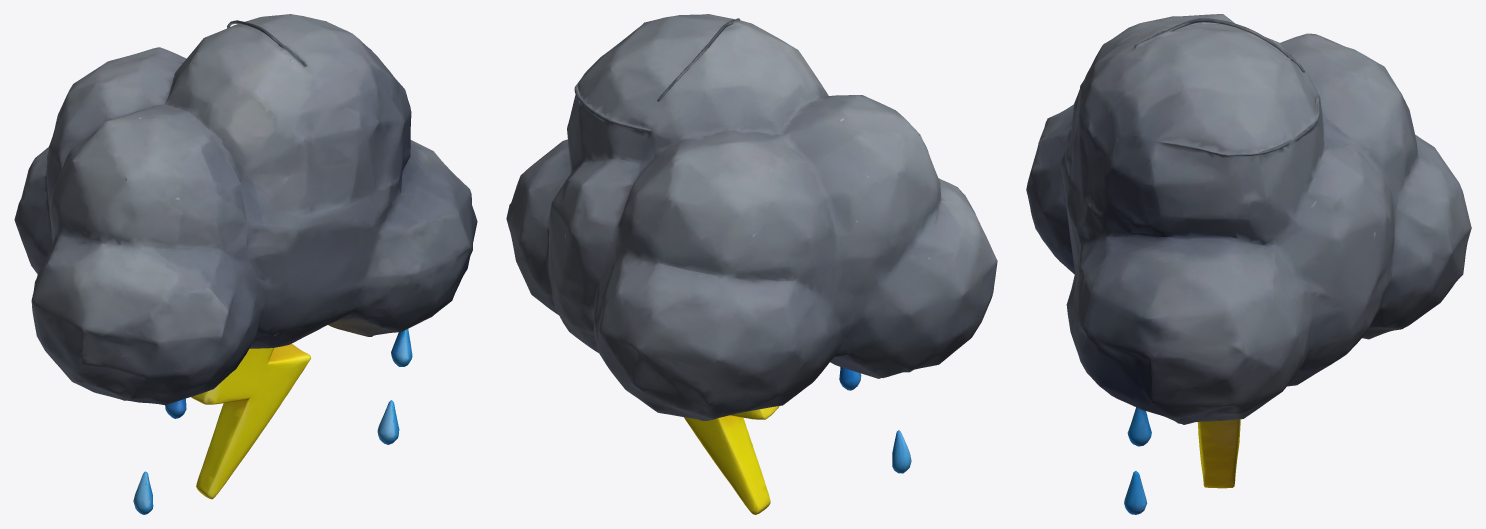
The model's file is nuvem-chuva.glb.
3 views of the same model, side by side, from view 1: azimuth 30°, elevation 25°; view 2: azimuth 150°, elevation 25°; view 3: azimuth 270°, elevation 25° (orthographic). The views are drawn at different scales.
Visible parts, largest first — view 1: tripo_part_0, tripo_part_1, tripo_part_4, tripo_part_2, tripo_part_5; view 2: tripo_part_0, tripo_part_1, tripo_part_5; view 3: tripo_part_0, tripo_part_1, tripo_part_4, tripo_part_2.
Part boxes in pixels (<box>): tripo_part_0: <box>14,14,477,405</box>; tripo_part_1: <box>191,343,310,499</box>; tripo_part_4: <box>377,400,399,444</box>; tripo_part_2: <box>391,329,412,366</box>; tripo_part_5: <box>133,471,153,514</box>; tripo_part_0: <box>506,14,997,420</box>; tripo_part_1: <box>684,406,779,514</box>; tripo_part_5: <box>892,430,911,473</box>; tripo_part_0: <box>1026,14,1471,424</box>; tripo_part_1: <box>1197,419,1240,488</box>; tripo_part_4: <box>1124,471,1147,514</box>; tripo_part_2: <box>1127,407,1151,446</box>.
Size of the model in its own units: 0.9725 by 1 by 0.817.
6 materials, 6 textured.
